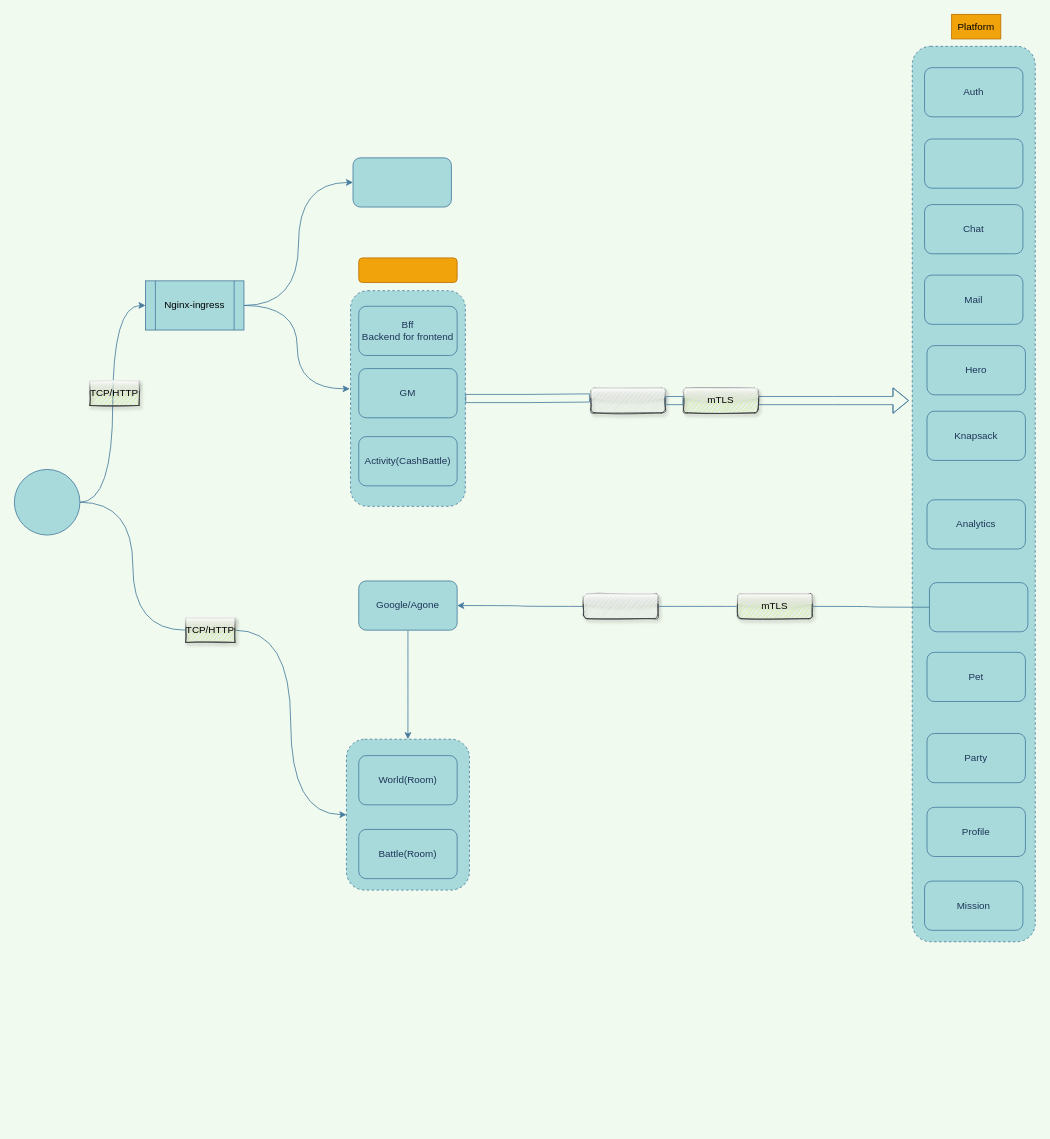
Image size: 1050x1139. Some labels were removed from this diagram. The shapes that lost their labels are listed below. From the top down, each one's centre as x and y in pixels, then its label:
At (x=401, y=182): "UMS".
At (x=973, y=163): "Buddy".
At (x=407, y=269): "Rumble".
At (x=628, y=401): "gRpc/MQ(nats)".
At (x=47, y=502): "Client".
At (x=621, y=607): "gRpc".
At (x=978, y=607): "Matchmaking".
